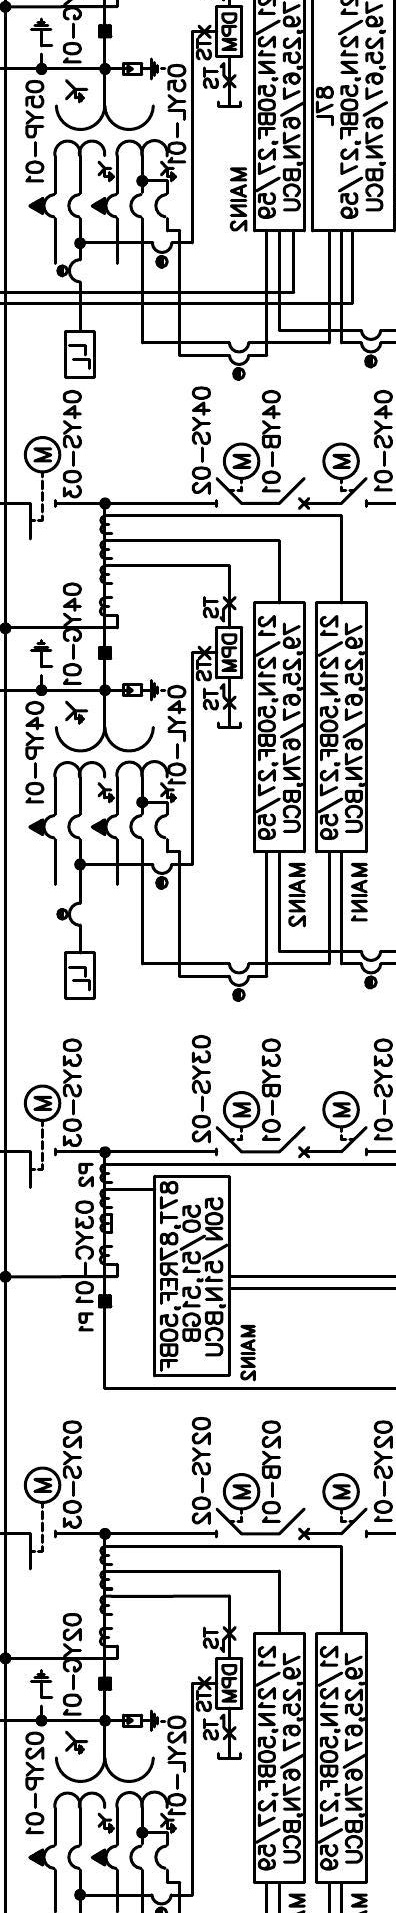115_1way_ds_w_motor: (23, 1464, 62, 1571), (23, 1083, 62, 1190), (24, 434, 63, 540), (322, 1089, 369, 1158), (322, 440, 369, 509), (322, 1471, 369, 1538), (214, 440, 261, 509), (214, 1471, 261, 1538), (214, 1091, 261, 1157)
115_breaker: (279, 1507, 311, 1541), (279, 1125, 311, 1159), (279, 477, 311, 510)
115_gs: (29, 16, 55, 57), (29, 637, 55, 678), (28, 1668, 54, 1709)
115_la: (122, 677, 167, 703), (122, 56, 167, 81), (122, 1708, 167, 1732)
115_vt_3p: (27, 1730, 178, 1872), (28, 78, 178, 220), (28, 699, 178, 841)
DPM: (214, 4, 244, 57), (214, 625, 244, 678), (214, 1656, 244, 1709)
LL: (63, 328, 96, 379), (63, 950, 96, 1000)
